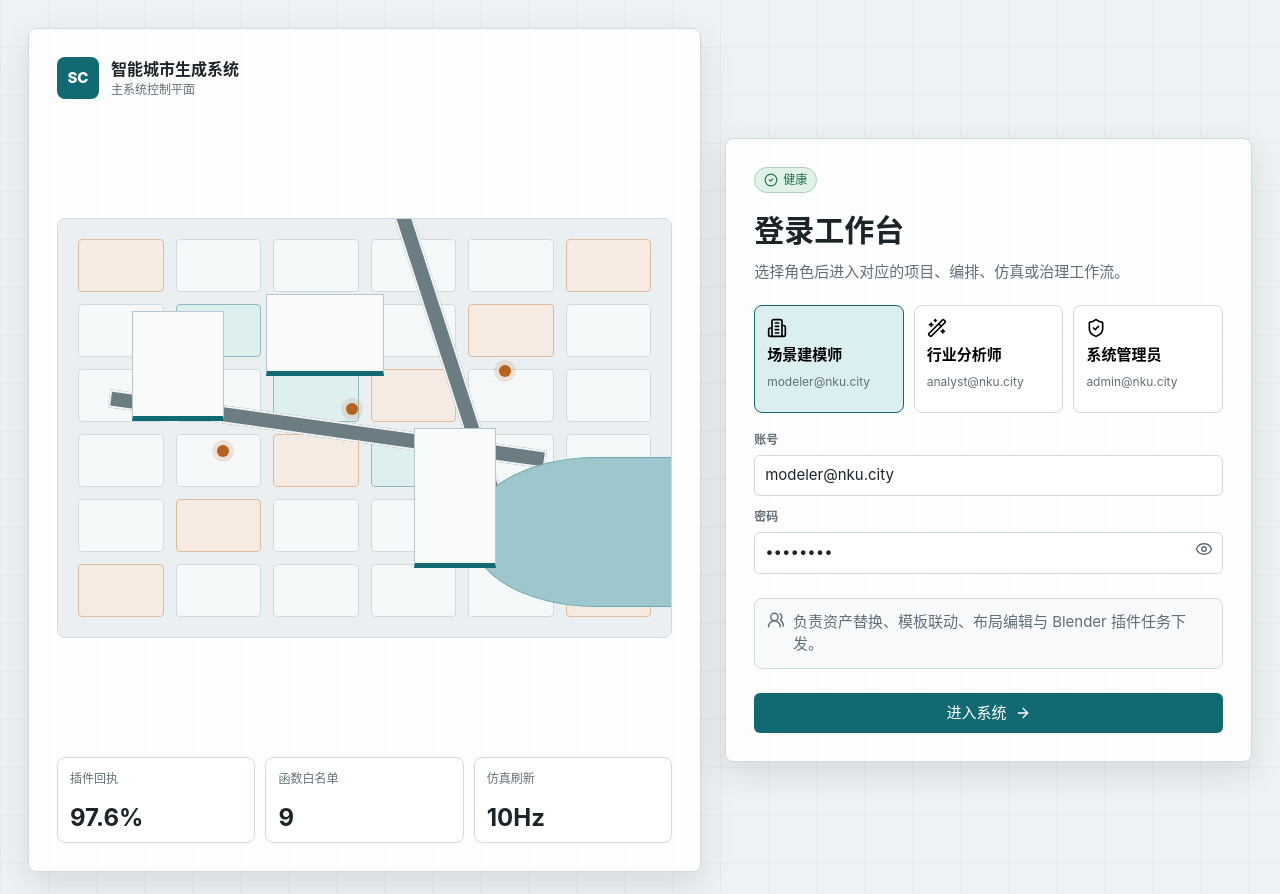
it: App › logs in as analyst and opens the analyst portal
Click the button "行业分析师 analyst@nku.city" at coordinates (989, 359), box [914,305,1063,413]
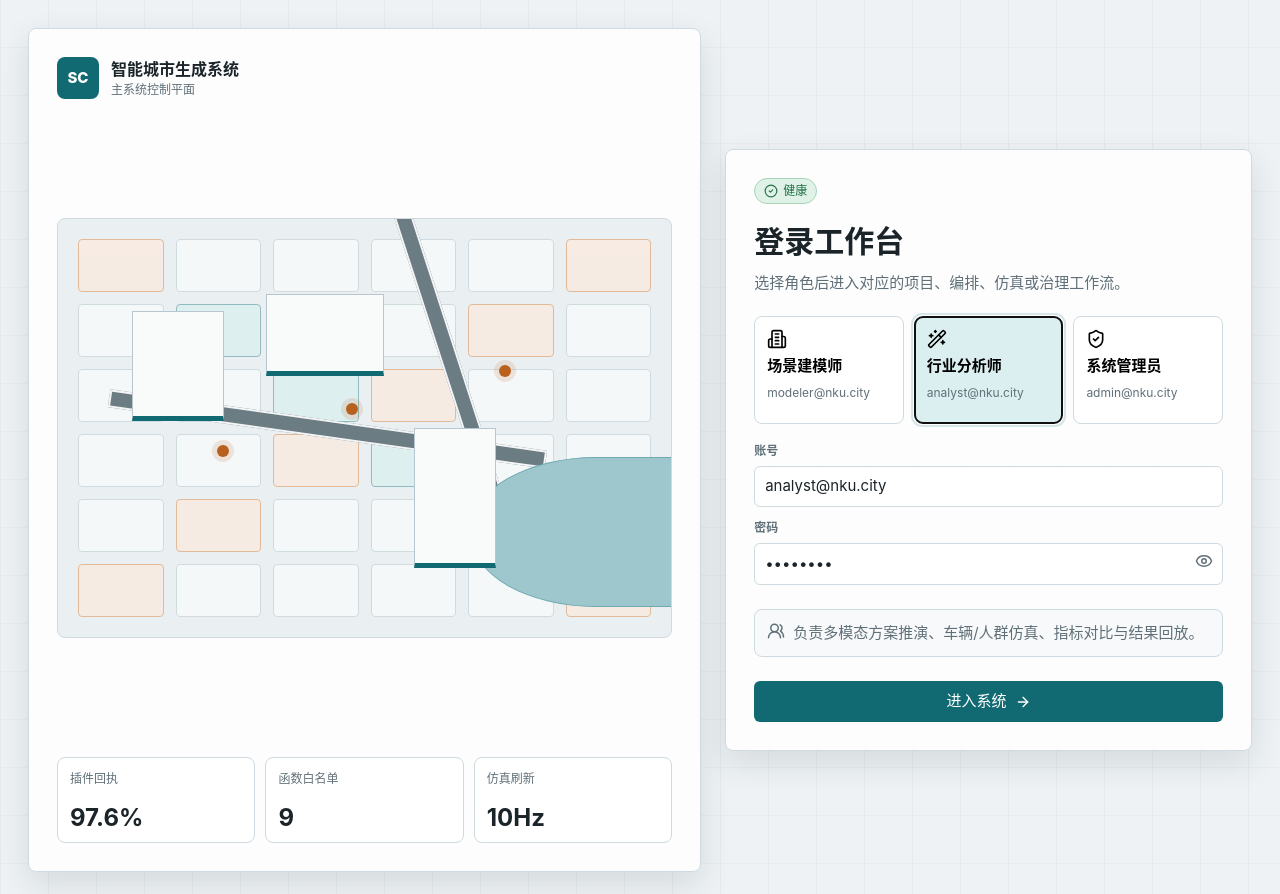
Click the button "进入系统" at coordinates (989, 702), box [754,681,1223,722]
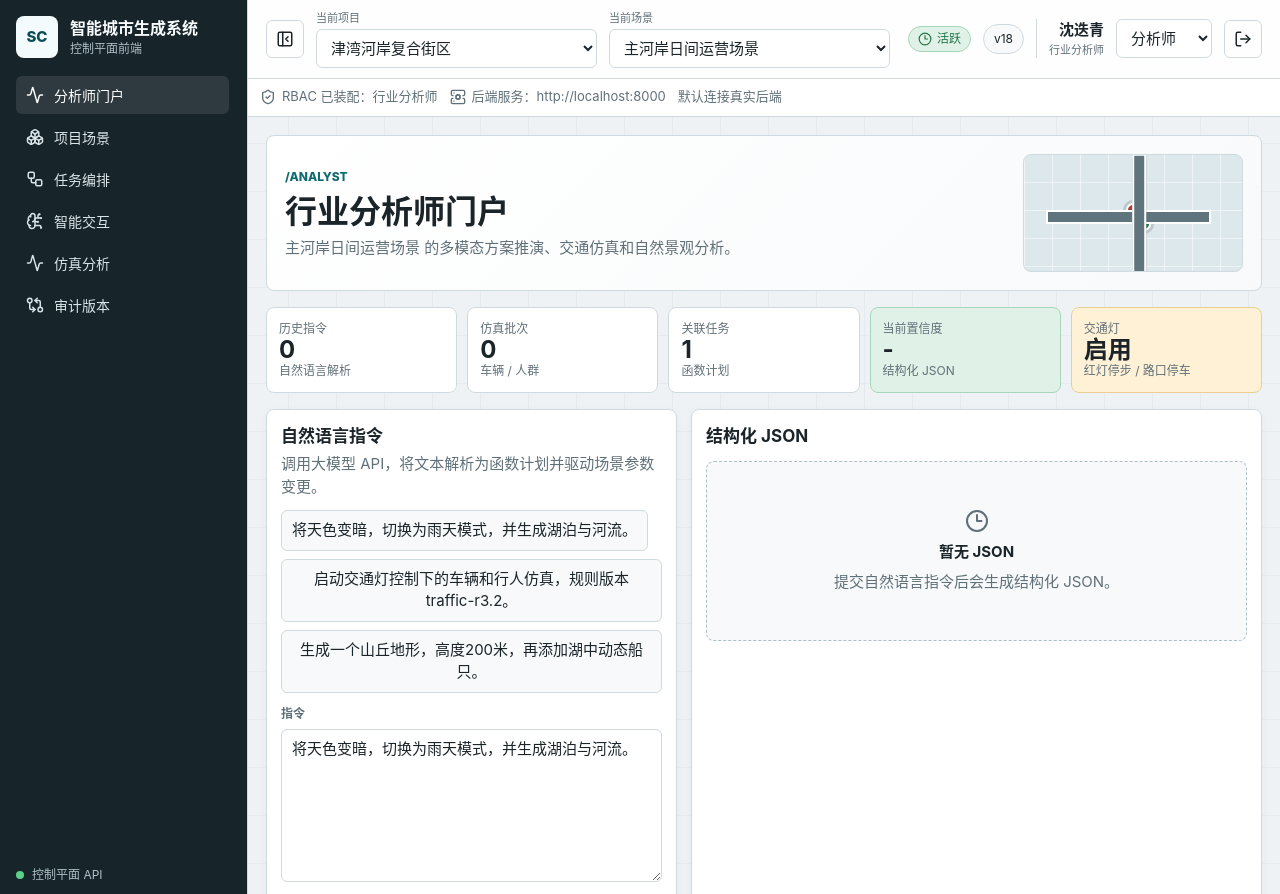
Expected: the heading "行业分析师门户" is shown, [285,192,509,231]
Expected: the text "主河岸日间运营场景 的多模态方案推演、交通仿真和自然景观分析。" is shown, [285,237,739,260]
